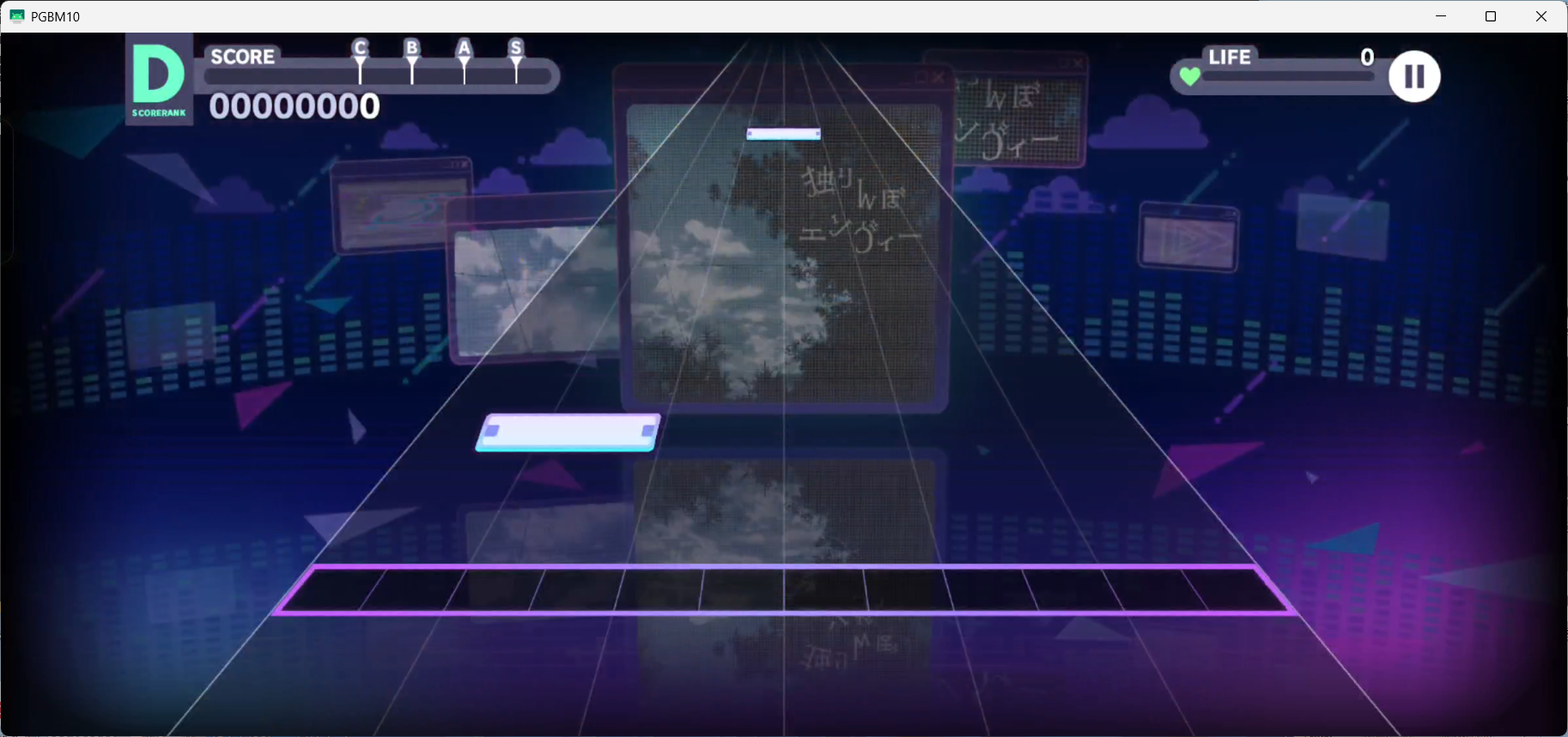tap: (475, 413, 660, 451), (746, 128, 821, 141)
